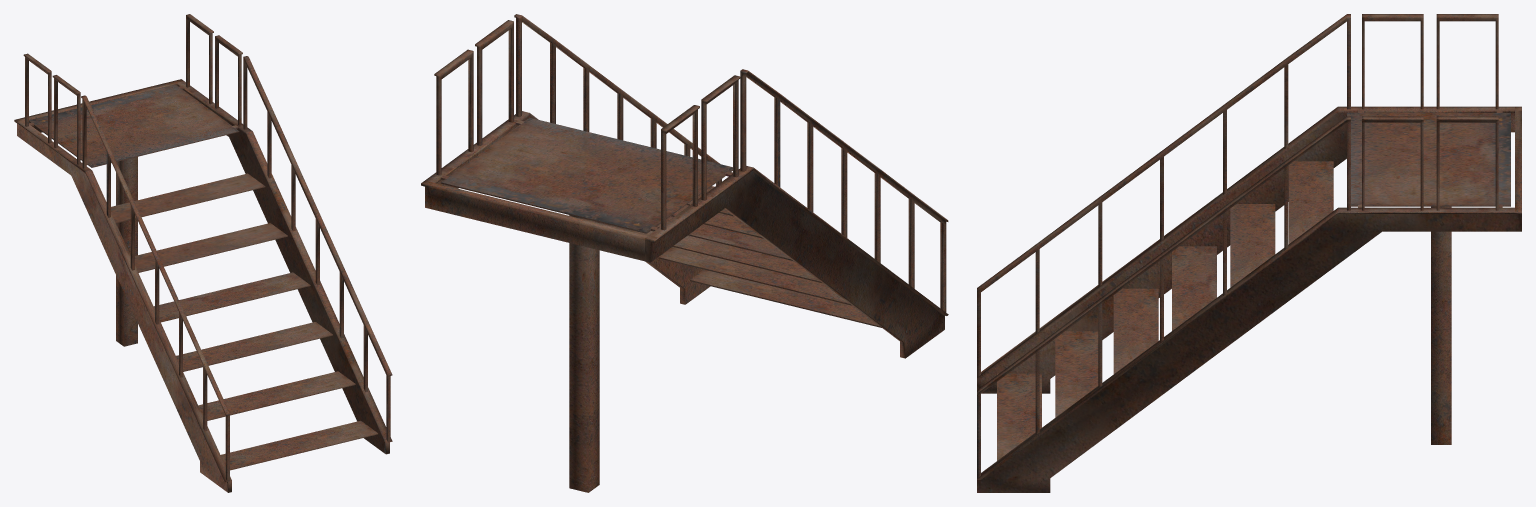
Rendered from stairs_metal.fbx.
3 renders of one model, left to right at view 1: azimuth 30°, elevation 25°; view 2: azimuth 150°, elevation 25°; view 3: azimuth 270°, elevation 25°, orthographic. The views are drawn at different scales.
Visible parts, largest first — view 1: handrail, stairs, pillar, handrail2, handrail3; view 2: handrail, stairs, pillar, handrail2, handrail3; view 3: handrail, stairs, pillar, handrail3, handrail2.
Part boxes in pixels (x1,y1,x2,y2): handrail: [14, 56, 392, 492]; stairs: [29, 84, 378, 470]; pillar: [116, 157, 137, 346]; handrail2: [186, 14, 242, 125]; handrail3: [23, 53, 80, 164]; handrail: [421, 14, 948, 358]; stairs: [440, 117, 881, 327]; pillar: [569, 215, 599, 492]; handrail2: [434, 20, 513, 175]; handrail3: [661, 75, 740, 230]; handrail: [977, 14, 1521, 492]; stairs: [997, 110, 1510, 460]; pillar: [1431, 206, 1451, 444]; handrail3: [1362, 14, 1498, 109]; handrail2: [1362, 116, 1498, 210].
Size of the model in its own units: 64.16 by 107 by 140.
